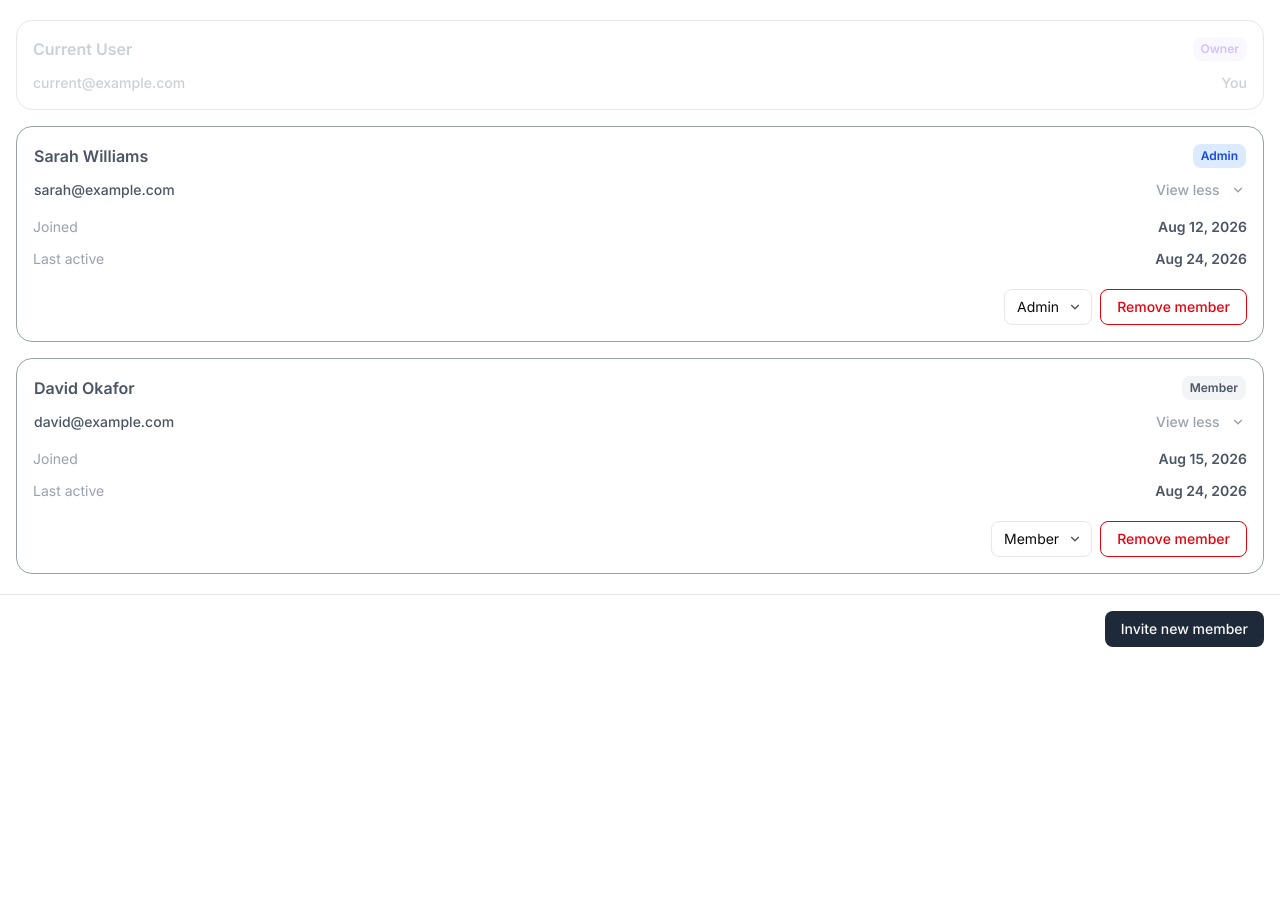
MembersSettings › lets an owner manage admins and members
This screenshot has width=1280, height=900.
Check: the text "Current User" is shown, box [33,37,132,61]
Check: the number of dropdowns named "Role for " is 2, box [1004,289,1092,325]; [991,521,1092,557]
Click the button "Sarah Williams admin sarah@example.com View less".
click(91, 156)  # box [17,127,1263,217]
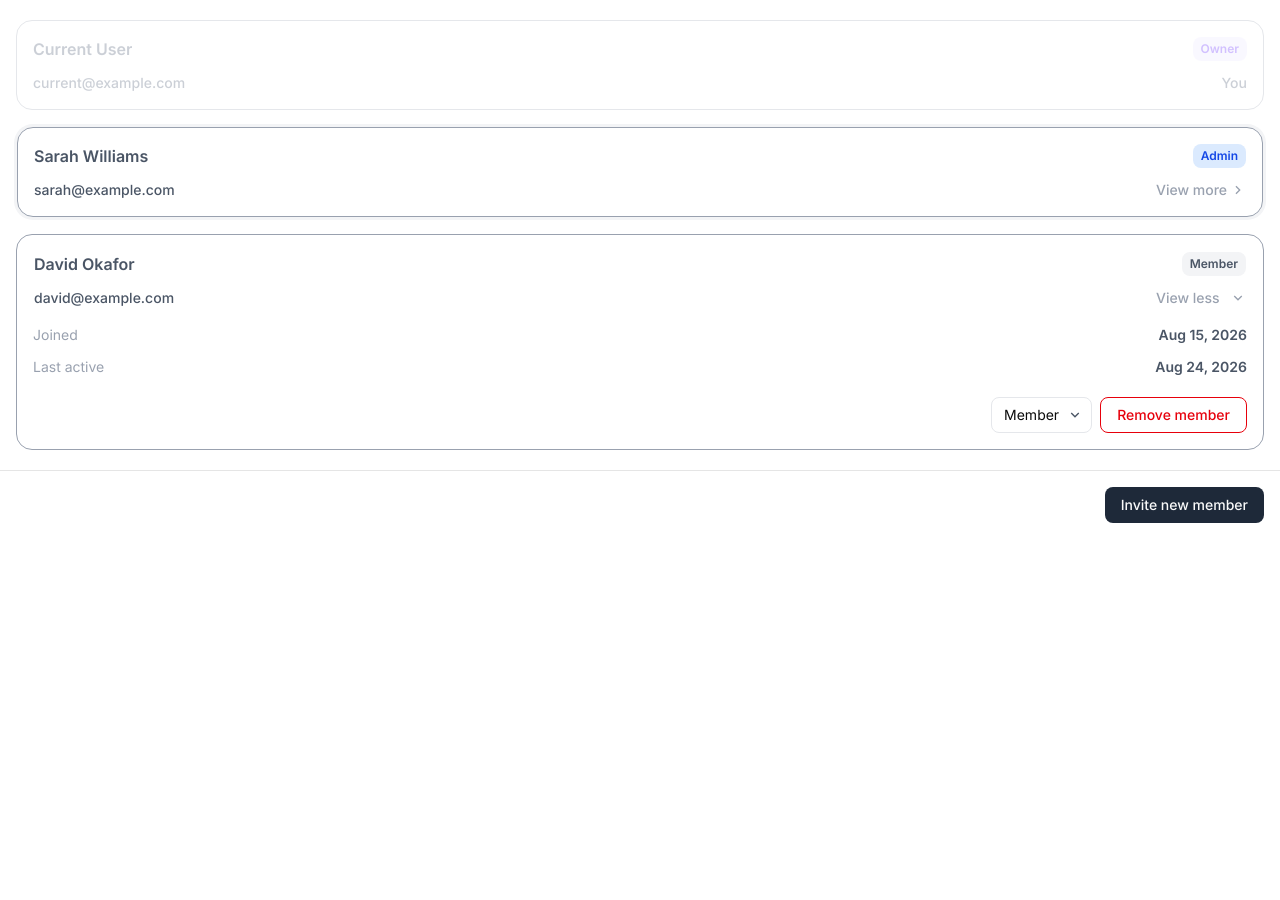
Check: the button "Sarah Williams admin sarah@example.com View more" is collapsed, box [17,127,1263,217]
